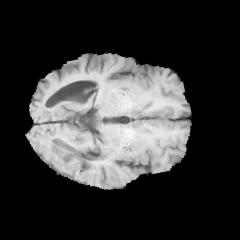glioma: (39, 138, 99, 186)
